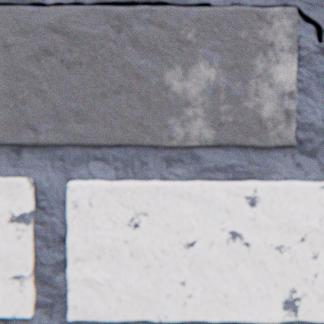brick: (0, 6, 297, 146), (68, 180, 323, 322), (0, 177, 35, 316)
crack: (0, 0, 323, 43)
